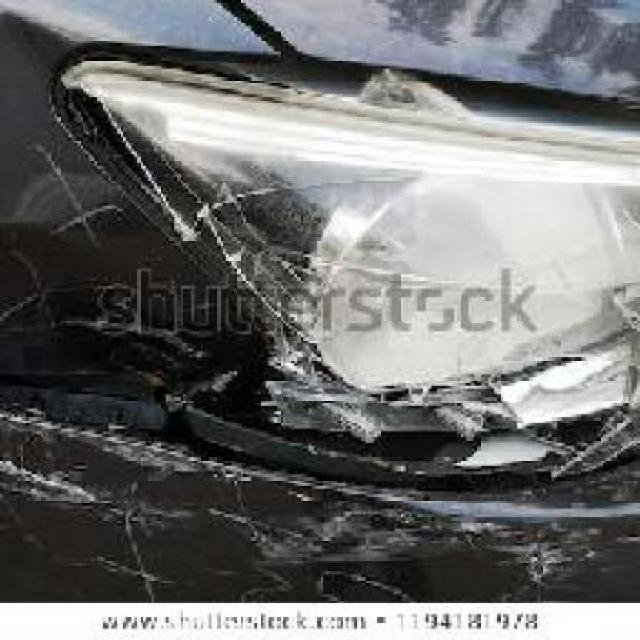damaged-head-light: (76, 60, 638, 409)
